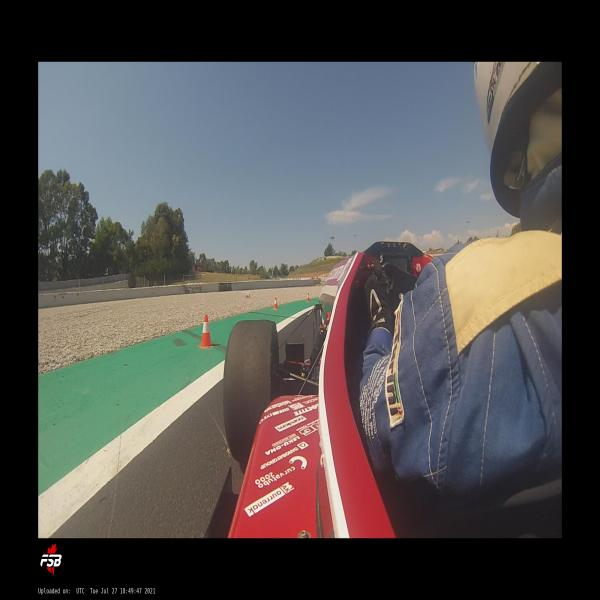orange_cone: (198, 314, 214, 347), (274, 297, 278, 310), (307, 293, 309, 301)
